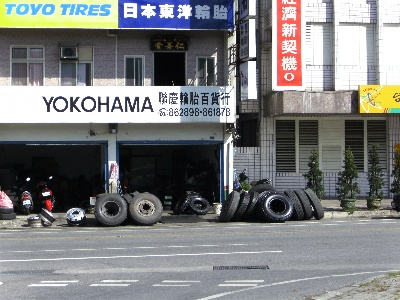tire: (94, 192, 129, 227), (129, 191, 164, 226), (262, 192, 292, 223), (219, 191, 241, 223), (304, 187, 324, 220), (294, 187, 314, 220), (285, 189, 304, 220), (232, 190, 250, 222), (190, 197, 210, 216)
